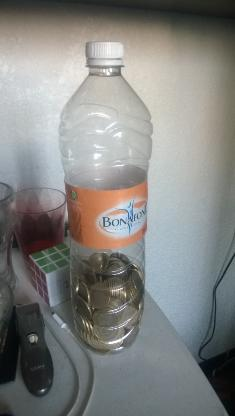Plastic Bottle: (59, 41, 153, 351)
